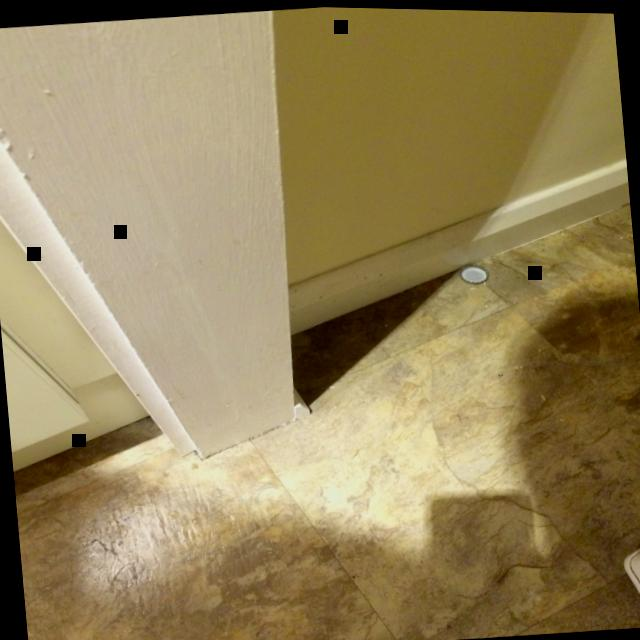Metal bottle cap: (459, 261, 488, 280)
